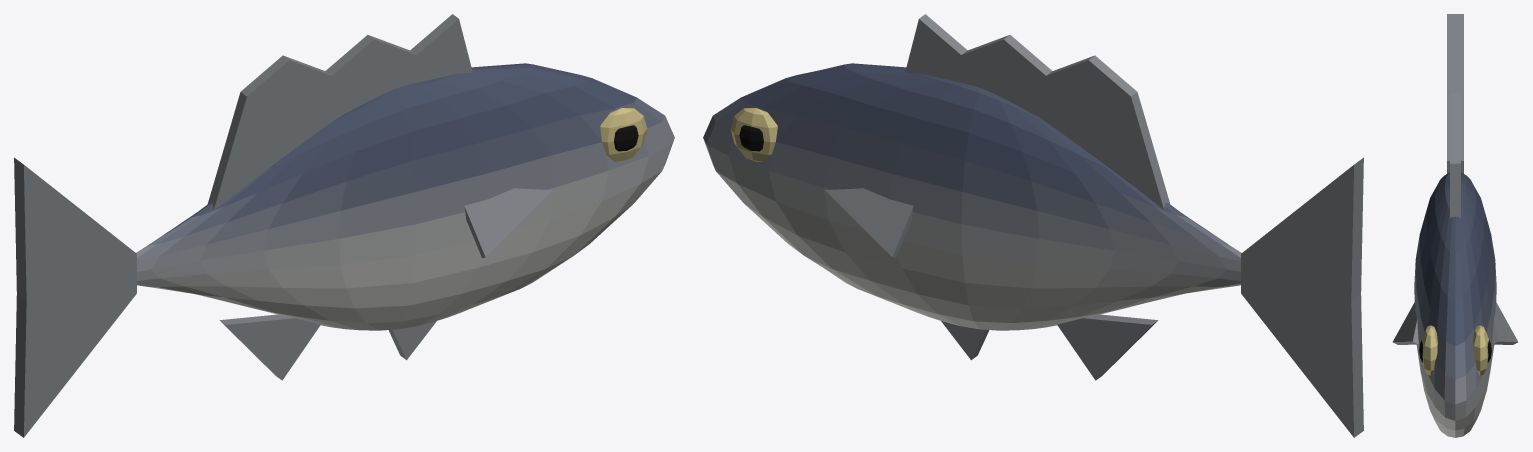
Rendered from FreshwaterDrum.glb.
3 renders of one model, left to right at view 1: azimuth 30°, elevation 25°; view 2: azimuth 150°, elevation 25°; view 3: azimuth 270°, elevation 25°, orthographic. The views are drawn at different scales.
Visible parts, largest first — view 1: FreshwaterDrum; view 2: FreshwaterDrum; view 3: FreshwaterDrum.
Part boxes in pixels (<box>): FreshwaterDrum: <box>14,14,674,437</box>; FreshwaterDrum: <box>703,14,1363,437</box>; FreshwaterDrum: <box>1392,14,1518,437</box>.
Bounding box in the file's own units: 4.11 × 1.97 × 0.7998.
